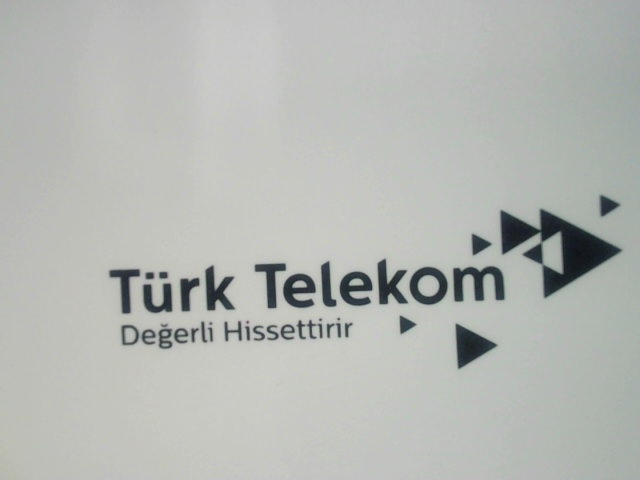AQ_TURKTelekom: (95, 186, 627, 370)
